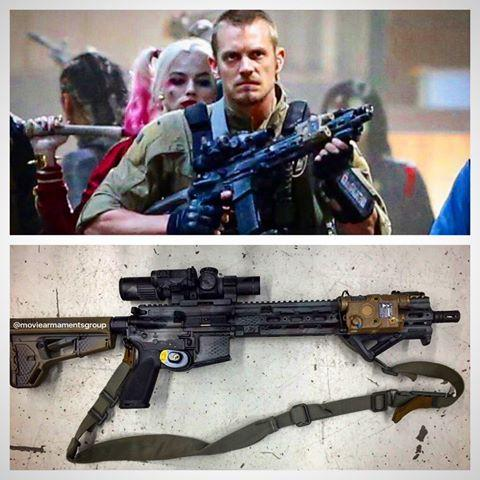rifle: (7, 264, 468, 415), (143, 98, 372, 235)
